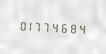eight: (71, 20, 79, 35)
four: (53, 20, 61, 34), (80, 21, 88, 35)
one: (26, 18, 34, 33)
seven: (35, 19, 43, 33), (44, 19, 52, 33)
six: (62, 20, 70, 34)
zero: (17, 18, 25, 32)
